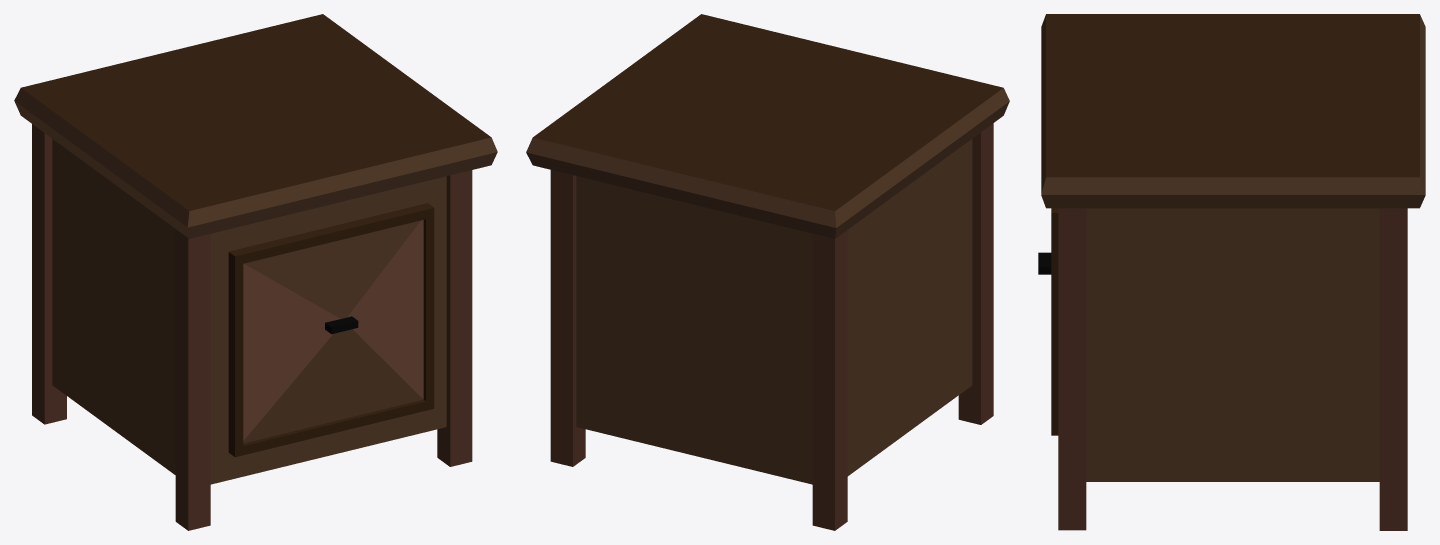
File: Furnit 1.glb
3 renders of one model, left to right at view 1: azimuth 30°, elevation 25°; view 2: azimuth 150°, elevation 25°; view 3: azimuth 270°, elevation 25°, orthographic. The views are drawn at different scales.
Visible parts, largest first — view 1: Furnit 1; view 2: Furnit 1; view 3: Furnit 1.
Boxes of the visible parts, x1,y1,x2,y2 form: Furnit 1: (14, 14, 497, 530); Furnit 1: (526, 14, 1009, 530); Furnit 1: (1038, 14, 1425, 530).
Size of what is drawn, in the model's own units: 0.86 by 0.8611 by 0.8397.
1 material, 1 textured.
